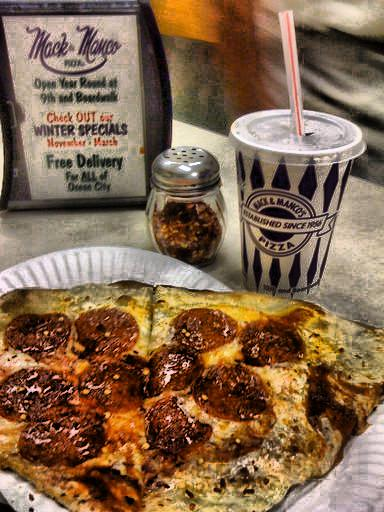pizza: (3, 279, 384, 510)
